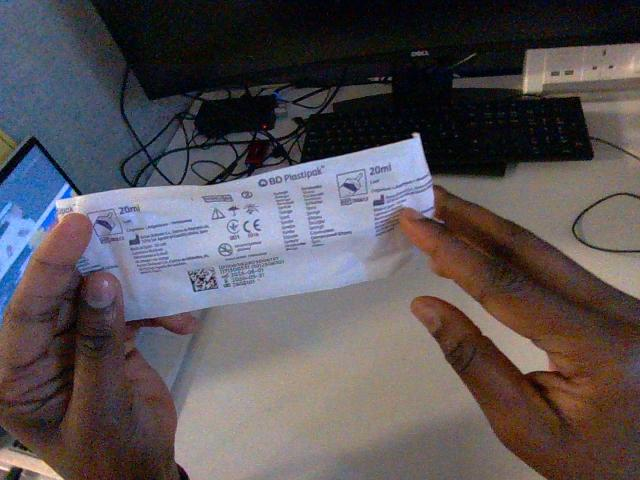syringe: (57, 135, 433, 319)
